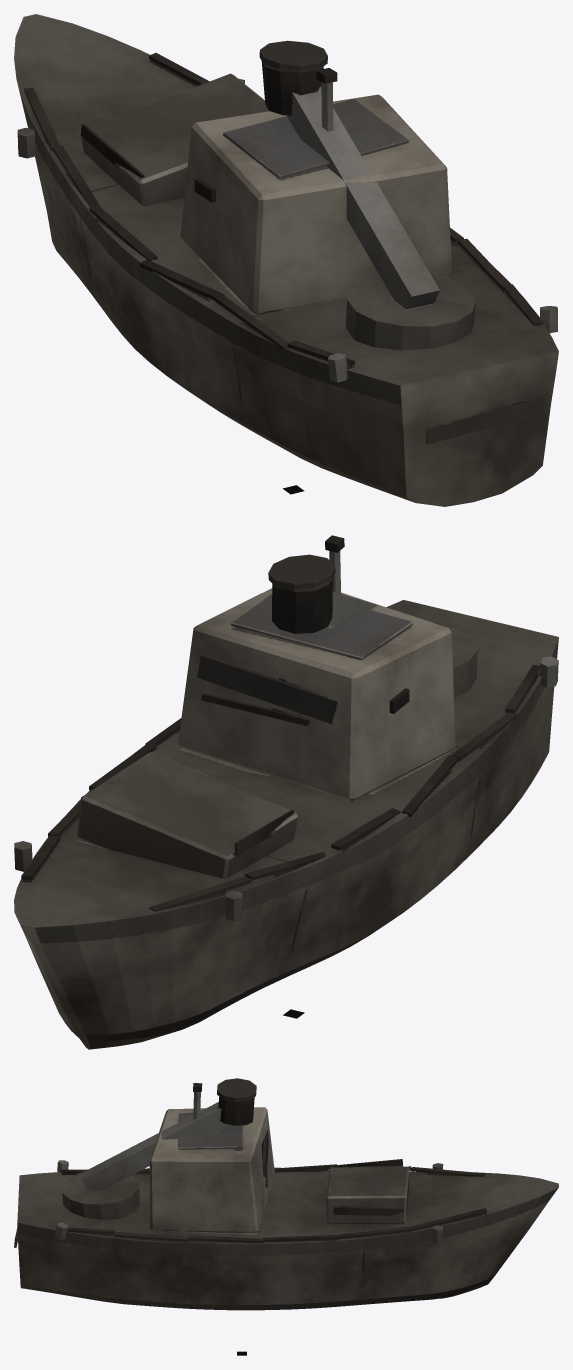
Rendered from ord_tidewright_wreck.fbx.
3 renders of one model, top to bottom at view 1: azimuth 30°, elevation 25°; view 2: azimuth 150°, elevation 25°; view 3: azimuth 270°, elevation 25°, orthographic. The views are drawn at different scales.
Parts seen in each view (by area): view 1: base_bar, nano_bar; view 2: base_bar, nano_bar; view 3: base_bar, nano_bar.
Boxes of the visible parts, x1=… form: base_bar: x1=14, y1=14, x2=558, y2=506; nano_bar: x1=259, y1=40, x2=475, y2=350; base_bar: x1=14, y1=535, x2=558, y2=1049; nano_bar: x1=268, y1=554, x2=477, y2=697; base_bar: x1=14, y1=1083, x2=558, y2=1310; nano_bar: x1=62, y1=1078, x2=256, y2=1219.
Bounding box in the file's own units: 377 × 602 × 1111.
2 materials, 2 textured.
